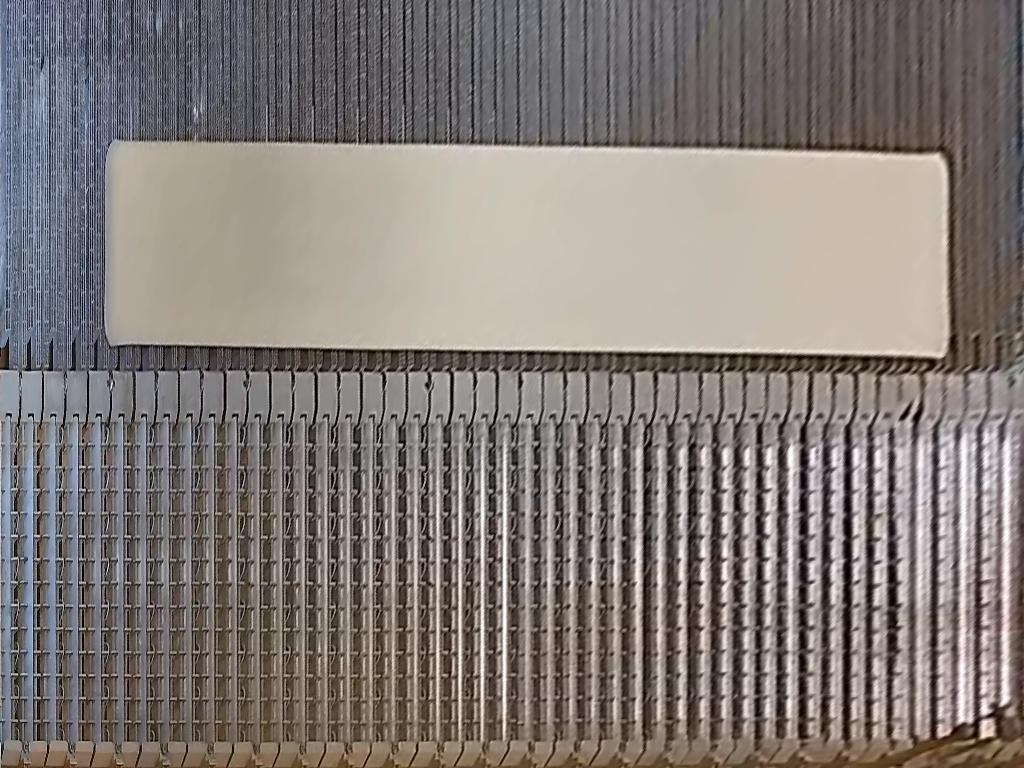steel: (104, 137, 952, 359)
